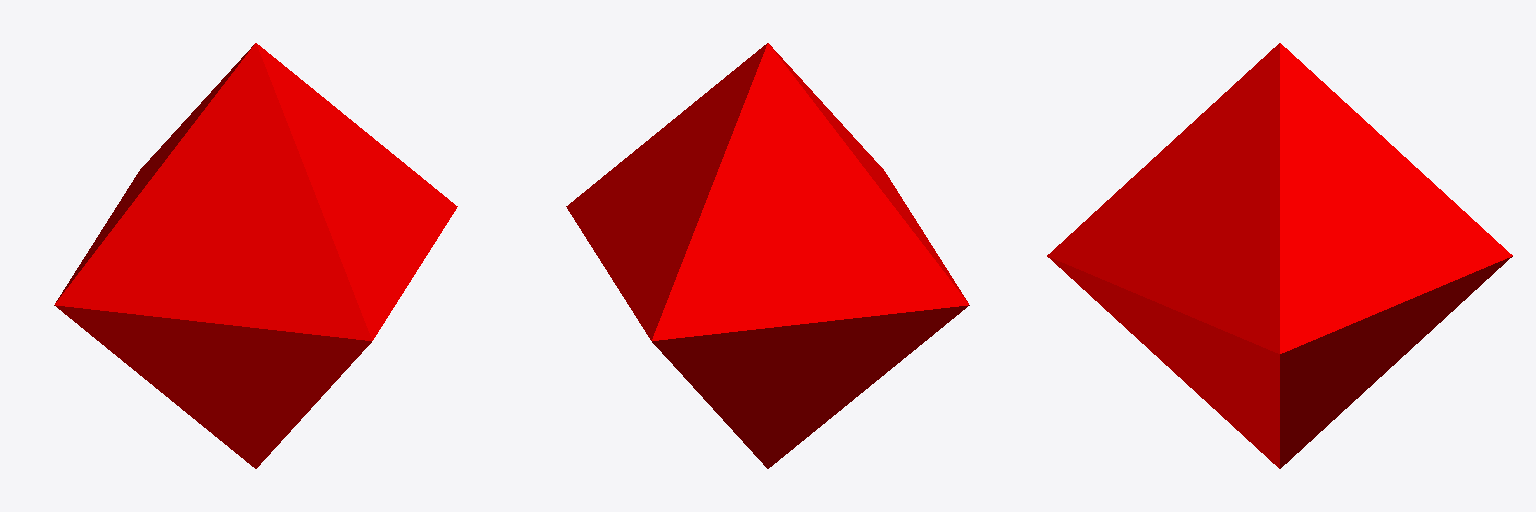
3 renders of one model, left to right at view 1: azimuth 30°, elevation 25°; view 2: azimuth 150°, elevation 25°; view 3: azimuth 270°, elevation 25°, orthographic.
Visible parts, largest first — view 1: Cube; view 2: Cube; view 3: Cube.
Part boxes in pixels (bbox=[...]): Cube: bbox=[54, 43, 457, 468]; Cube: bbox=[566, 43, 969, 468]; Cube: bbox=[1047, 43, 1512, 468].
Size of the model in its own units: 1.98 by 2 by 1.98.
1 materials, 1 textured.